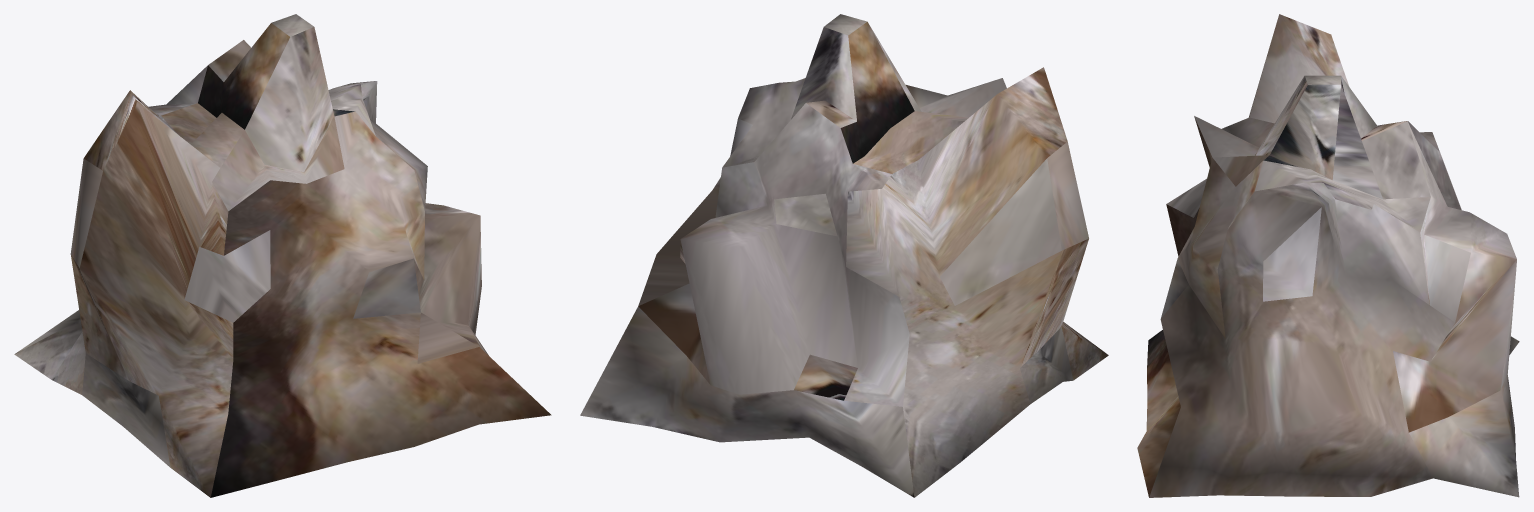
The model's file is Magnesio.fbx.
The picture shows the model from 3 angles, left to right: view 1: azimuth 30°, elevation 25°; view 2: azimuth 150°, elevation 25°; view 3: azimuth 270°, elevation 25°; orthographic projection. The views are drawn at different scales.
Visible parts, largest first — view 1: Cube_001; view 2: Cube_001; view 3: Cube_001.
Boxes of the visible parts, <box> form: Cube_001: <box>14,14,551,497</box>; Cube_001: <box>580,14,1108,497</box>; Cube_001: <box>1137,14,1519,497</box>.
Size of the model in its own units: 15.62 by 14.21 by 13.53.
